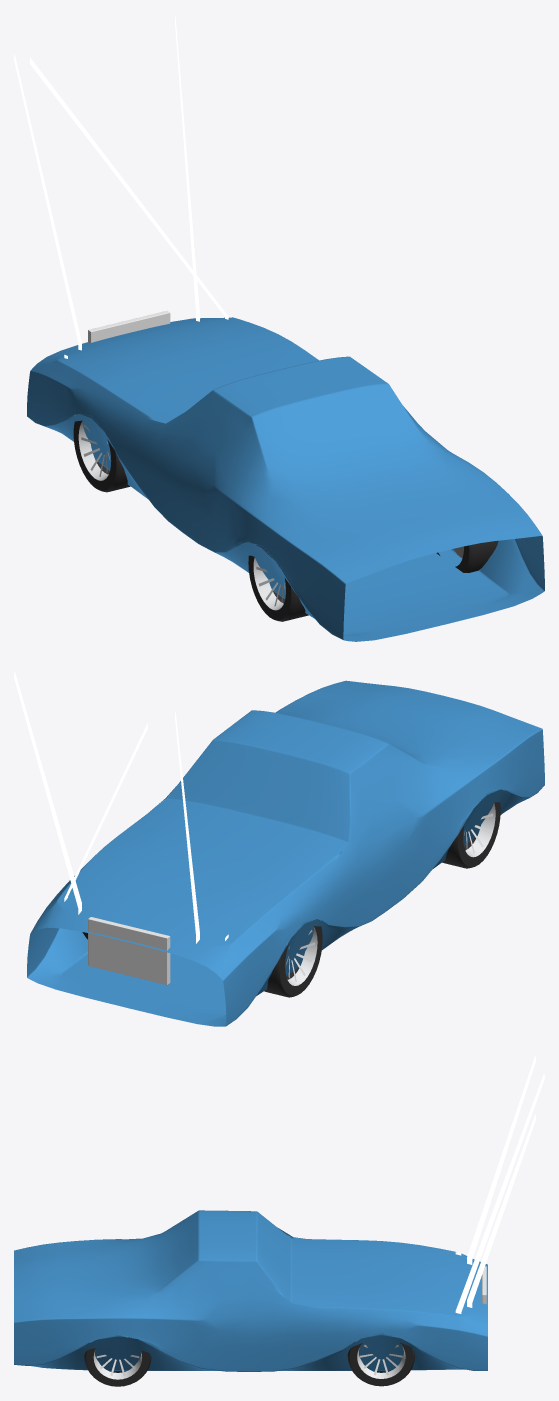
The model's file is vehicle.glb.
The picture shows the model from 3 angles, top to bottom: view 1: azimuth 30°, elevation 25°; view 2: azimuth 150°, elevation 25°; view 3: azimuth 270°, elevation 25°; orthographic projection. The views are drawn at different scales.
Parts seen in each view (by area): view 1: BODY_BentleyContinentalMulliner_MainHull, LIGHT_Headlights_BentleyConti, WHEEL_FR_Tire, WHEEL_RR_Tire, BODY_Bentley_MatrixGrille, WHEEL_RL_Tire, WHEEL_FR_Rim, WHEEL_RR_Rim; view 2: BODY_BentleyContinentalMulliner_MainHull, BODY_Bentley_MatrixGrille, LIGHT_Headlights_BentleyConti, WHEEL_FR_Tire, WHEEL_RR_Tire, WHEEL_FR_Rim, WHEEL_RR_Rim; view 3: BODY_BentleyContinentalMulliner_MainHull, LIGHT_Headlights_BentleyConti, WHEEL_FL_Tire, WHEEL_RL_Tire, WHEEL_FL_Rim, WHEEL_RL_Rim.
Boxes of the visible parts, x1,y1,x2,y2 form: BODY_BentleyContinentalMulliner_MainHull: [27, 317, 544, 641]; LIGHT_Headlights_BentleyConti: [14, 15, 228, 358]; WHEEL_FR_Tire: [73, 420, 130, 492]; WHEEL_RR_Tire: [248, 555, 308, 621]; BODY_Bentley_MatrixGrille: [88, 310, 170, 342]; WHEEL_RL_Tire: [436, 540, 498, 572]; WHEEL_FR_Rim: [78, 421, 109, 480]; WHEEL_RR_Rim: [253, 557, 284, 610]; BODY_BentleyContinentalMulliner_MainHull: [27, 680, 544, 1026]; BODY_Bentley_MatrixGrille: [88, 917, 170, 984]; LIGHT_Headlights_BentleyConti: [14, 671, 228, 943]; WHEEL_FR_Tire: [264, 926, 322, 997]; WHEEL_RR_Tire: [442, 802, 500, 868]; WHEEL_FR_Rim: [286, 927, 317, 985]; WHEEL_RR_Rim: [464, 803, 495, 857]; BODY_BentleyContinentalMulliner_MainHull: [14, 1210, 487, 1371]; LIGHT_Headlights_BentleyConti: [455, 1056, 544, 1313]; WHEEL_FL_Tire: [347, 1342, 414, 1386]; WHEEL_RL_Tire: [84, 1348, 151, 1386]; WHEEL_FL_Rim: [357, 1345, 405, 1378]; WHEEL_RL_Rim: [93, 1350, 142, 1379].
Bounding box in the file's own units: 2.1 × 3.17 × 5.75.
